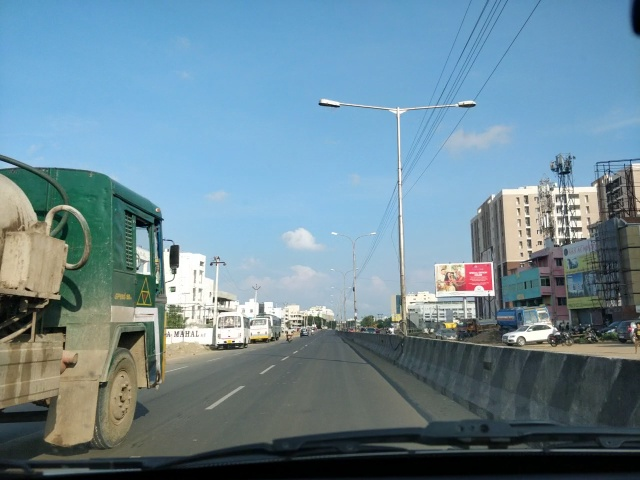car: (505, 325, 562, 346), (434, 326, 457, 343), (300, 328, 310, 337)
motorbike: (550, 333, 572, 346), (287, 325, 296, 342)
person: (632, 321, 638, 355)
truck: (0, 151, 173, 467), (211, 312, 251, 353), (253, 308, 282, 344)
